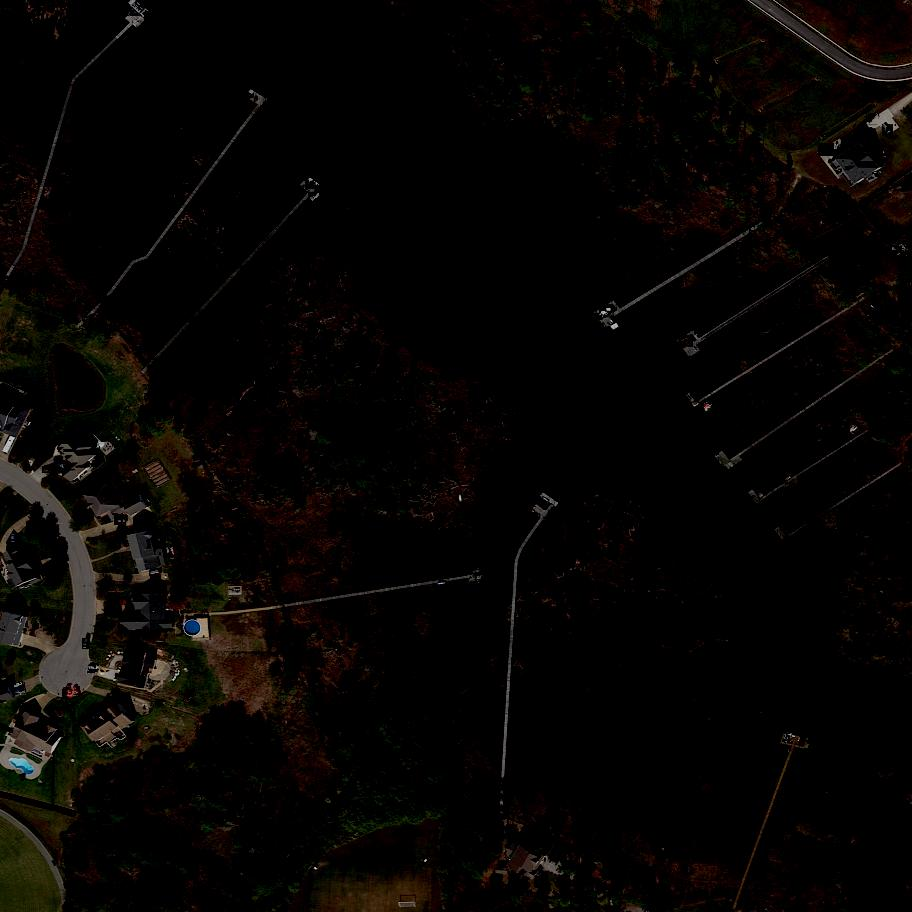ship: (127, 0, 149, 17), (818, 143, 834, 157), (599, 306, 615, 320), (306, 176, 321, 190), (308, 192, 323, 206), (680, 335, 694, 348), (891, 246, 904, 259), (898, 242, 911, 253), (705, 405, 717, 415), (477, 573, 485, 585), (850, 426, 860, 435), (229, 587, 241, 593), (704, 401, 711, 408), (785, 733, 789, 743), (705, 406, 712, 411), (459, 494, 462, 502)
small-vehicle: (867, 113, 879, 126), (883, 124, 893, 137), (42, 465, 54, 474), (66, 685, 74, 697), (115, 517, 127, 525), (13, 682, 25, 690), (119, 599, 132, 606), (82, 638, 90, 649), (149, 569, 161, 576), (73, 686, 80, 695), (16, 688, 26, 694), (88, 665, 99, 670), (87, 670, 97, 674), (11, 535, 15, 543), (63, 689, 66, 699), (151, 576, 158, 579)
